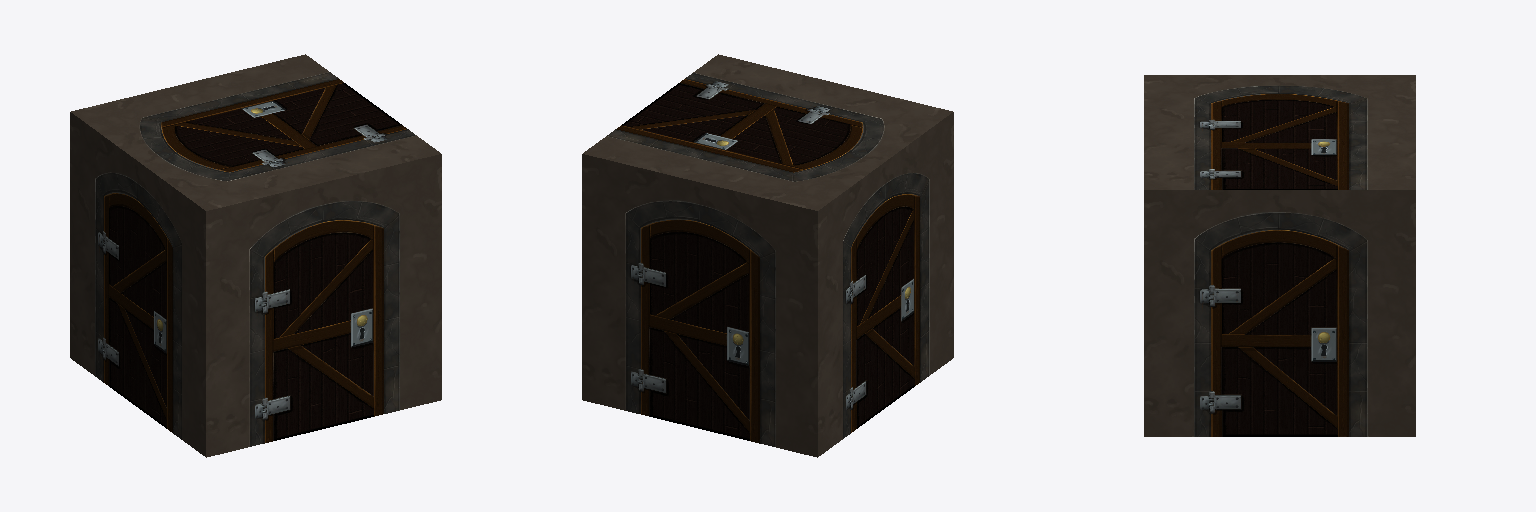
3 views of the same model, side by side, from view 1: azimuth 30°, elevation 25°; view 2: azimuth 150°, elevation 25°; view 3: azimuth 270°, elevation 25° (orthographic).
Parts seen in each view (by area): view 1: Cube.002; view 2: Cube.002; view 3: Cube.002.
Boxes of the visible parts, x1=… form: Cube.002: x1=70, y1=54, x2=441, y2=457; Cube.002: x1=582, y1=54, x2=953, y2=457; Cube.002: x1=1144, y1=75, x2=1415, y2=436.
Size of the model in its own units: 2 by 2 by 2.
1 materials, 1 textured.